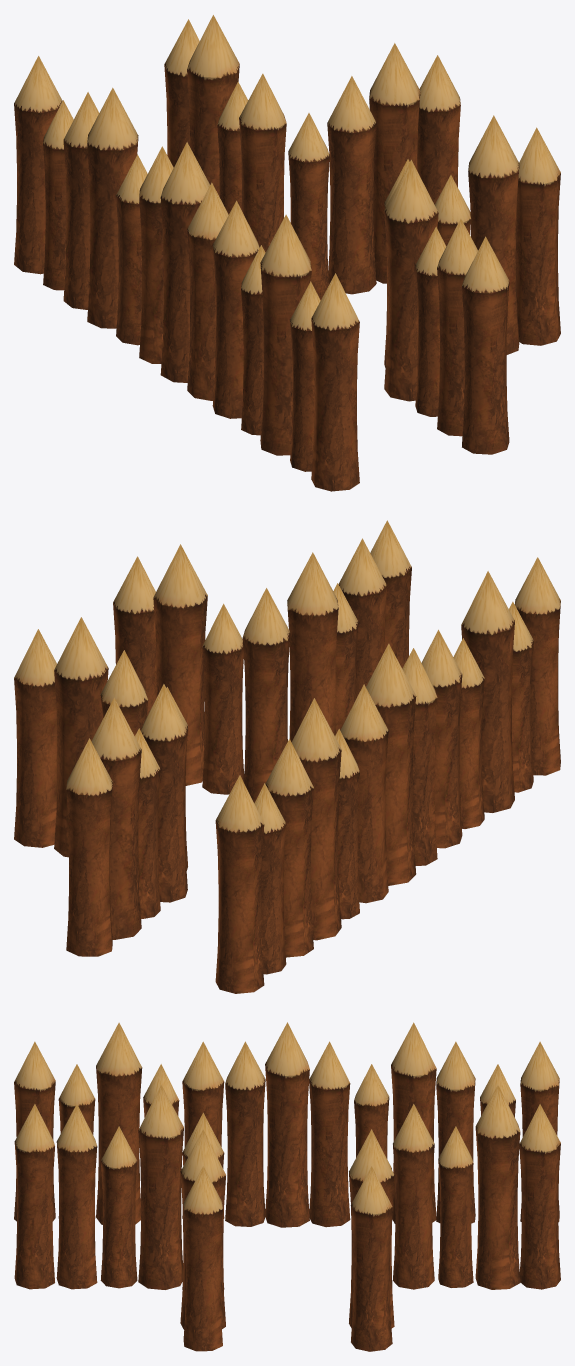
File: Fence_T.FBX
3 renders of one model, top to bottom at view 1: azimuth 30°, elevation 25°; view 2: azimuth 150°, elevation 25°; view 3: azimuth 270°, elevation 25°, orthographic. The views are drawn at different scales.
Visible parts, largest first — view 1: Fence_T; view 2: Fence_T; view 3: Fence_T.
Boxes of the visible parts, x1,y1,x2,y2 form: Fence_T: (14,15,560,491); Fence_T: (14,520,560,993); Fence_T: (14,1022,560,1351).
Bounding box in the file's own units: 805 × 515 × 1299.
